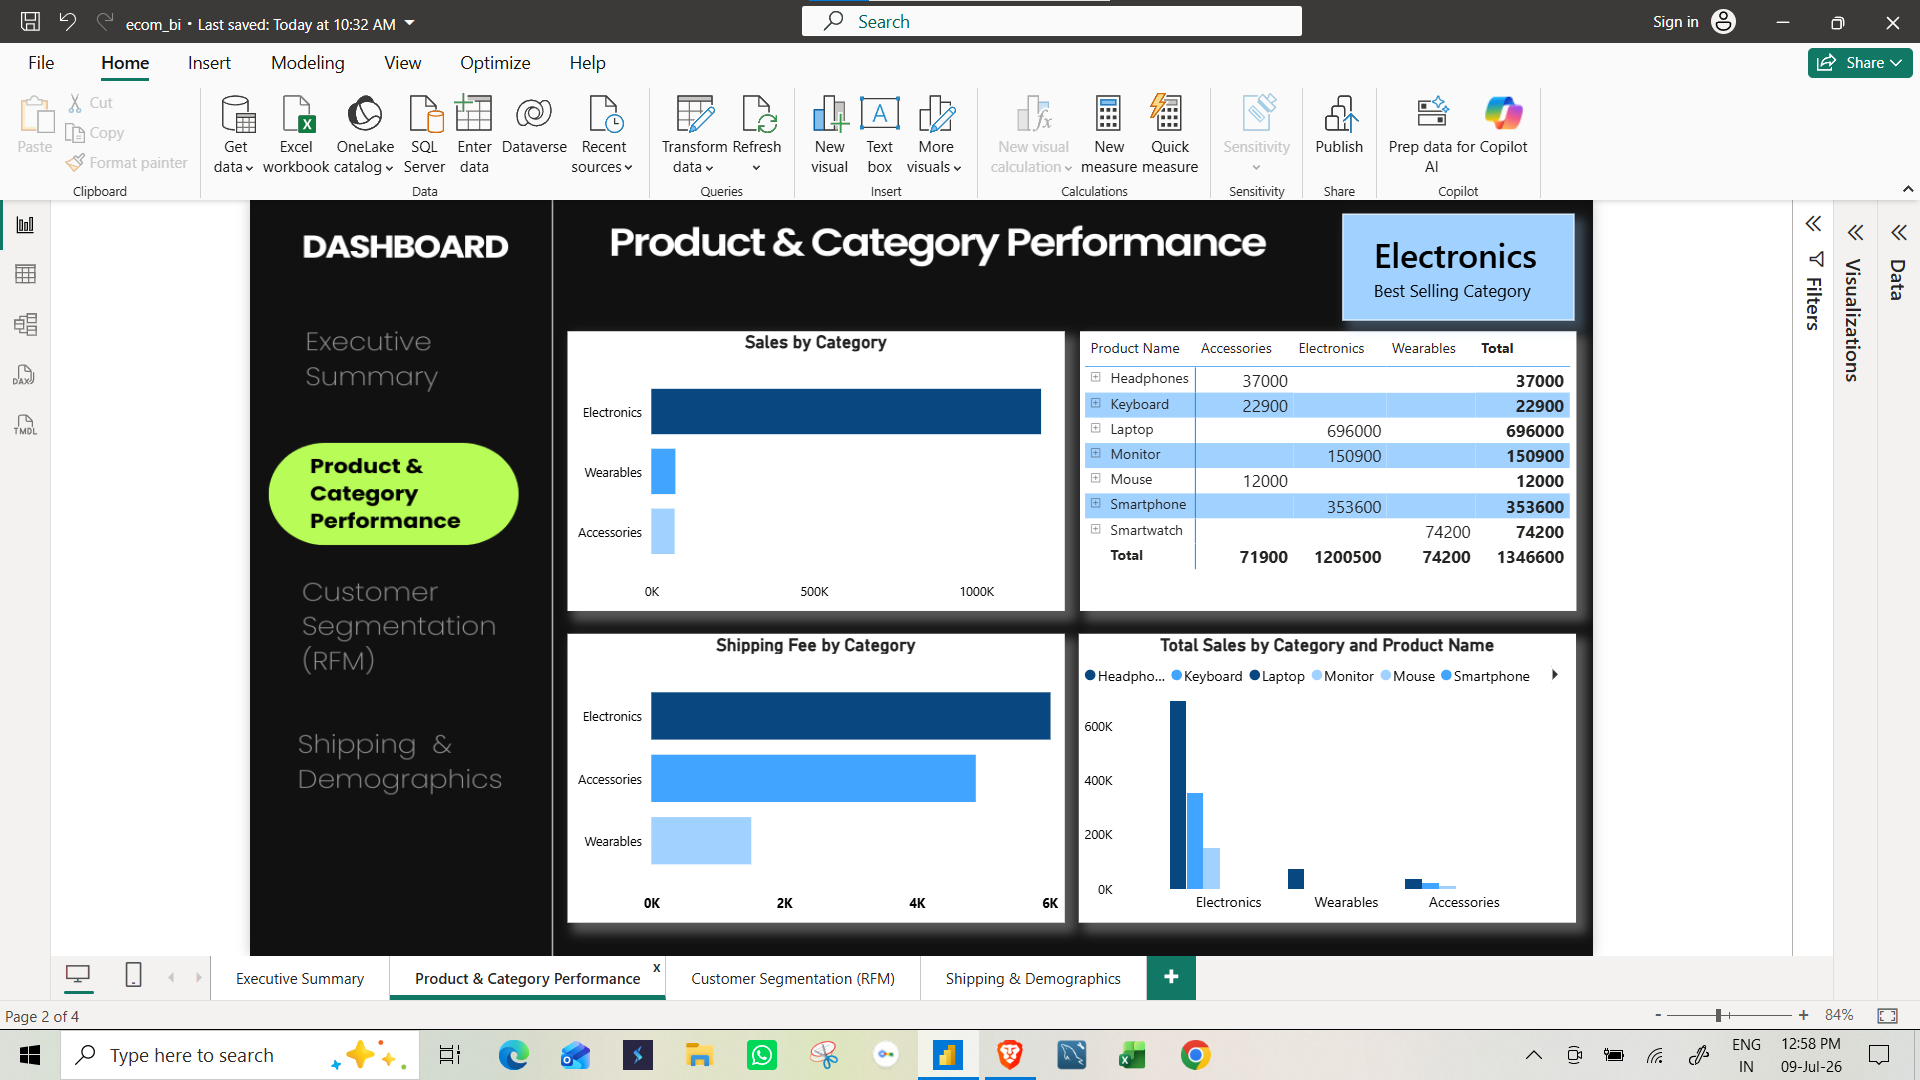

The dashboard page shown, as its layout file describes it:
{"tool":"powerbi","page":{"name":"Product & Category Performance","canvas":[1280,720],"ordinal":1},"visuals":[{"type":"actionButton","box":[0,480.3,286.8,113.9],"z":0},{"type":"actionButton","box":[0,345.8,286.8,134.5],"z":1000},{"type":"actionButton","box":[0,104.3,286.8,120.8],"z":2000},{"type":"clusteredBarChart","title":"Shipping Fee by Category","fields":{"Category":["clean_data.Category"],"Y":["Sum(clean_data.Shipping Fee)"]},"box":[302.2,413.4,473.2,275.1],"z":3000},{"type":"clusteredColumnChart","fields":{"Category":["clean_data.Category"],"Y":["clean_data.Total Sales"],"Series":["clean_data.Product Name"]},"box":[789.7,413.4,473.2,275.1],"z":4000},{"type":"clusteredBarChart","title":"Sales by Category","fields":{"Y":["clean_data.Total Sales"],"Category":["clean_data.Category"]},"box":[302.2,125.4,473.2,266.5],"z":5000},{"type":"pivotTable","fields":{"Values":["clean_data.Total Sales"],"Columns":["clean_data.Category"],"Rows":["clean_data.Product Name","clean_data.Total Price","clean_data.Quantity","clean_data.Unit Price"]},"box":[790.1,124.9,473.1,266.6],"z":6000},{"type":"cardVisual","fields":{"Data":["clean_data.Best Selling Category"]},"box":[1040.5,12.8,220.9,101.2],"z":7000}]}

Visuals, with their boxes on the page's 1280x720 design canvas (x1, y1, x2, y2). These are canvas units, not pixel positions in the 1920x1080 screenshot, which may show the page scaled, cropped or inside an application window:
actionButton: BBox(0, 480, 287, 594)
actionButton: BBox(0, 346, 287, 480)
actionButton: BBox(0, 104, 287, 225)
"Shipping Fee by Category" clusteredBarChart: BBox(302, 413, 775, 688)
clusteredColumnChart - clean_data.Category x clean_data.Total Sales: BBox(790, 413, 1263, 688)
"Sales by Category" clusteredBarChart: BBox(302, 125, 775, 392)
pivotTable - clean_data.Total Sales x clean_data.Category: BBox(790, 125, 1263, 392)
cardVisual - clean_data.Best Selling Category: BBox(1040, 13, 1261, 114)
